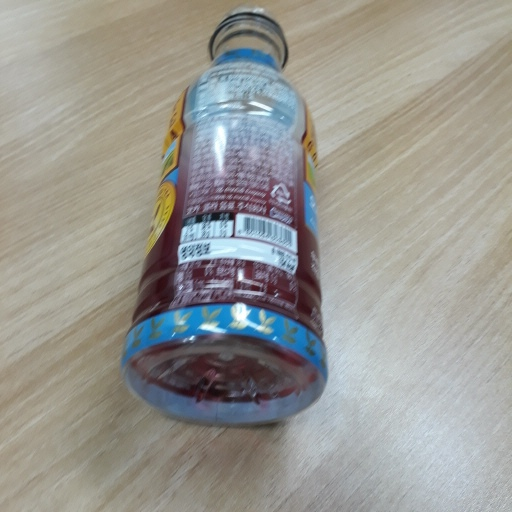Plastic_0: (118, 5, 329, 432)
